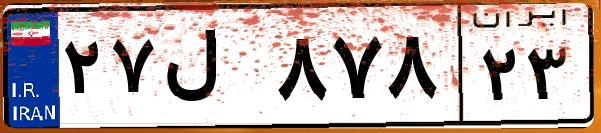2: (57, 26, 110, 100), (475, 38, 525, 113)
3: (525, 38, 570, 115)
7: (330, 28, 385, 110), (110, 28, 158, 98)
8: (270, 28, 330, 110), (385, 28, 445, 110)
ل: (158, 20, 270, 120)
